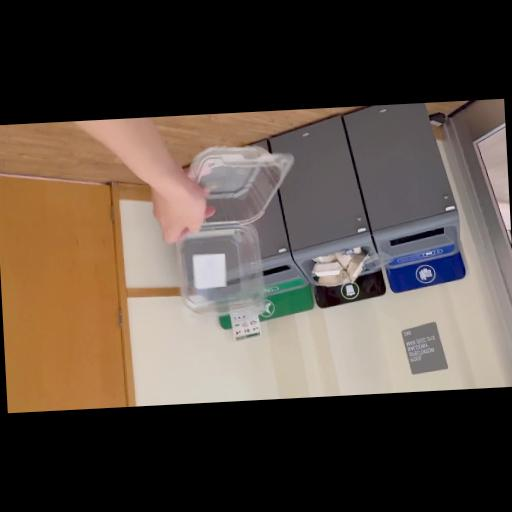small_plastic_container: (173, 143, 306, 319)
